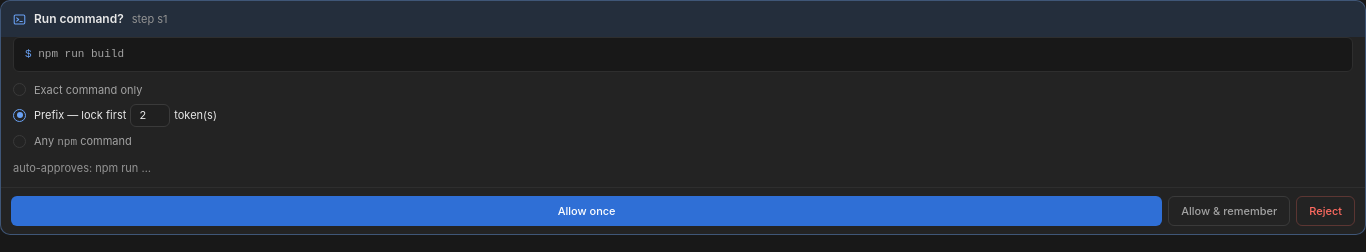
Test: CommandGate — one-shot after any action › all three action buttons are gone after Allow once
The image size is (1366, 252).
Click the button "Allow once" at [587, 211], box [11,196,1162,226]
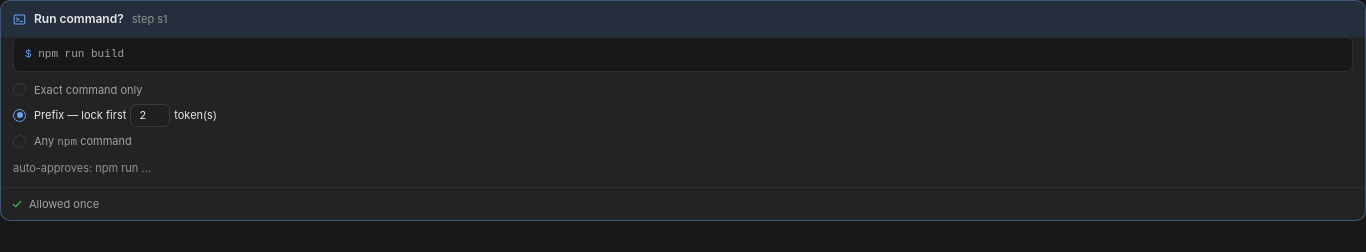
Result: the button "Allow once" is gone
Result: the button "Allow & remember" is gone
Result: the button "Reject" is gone
